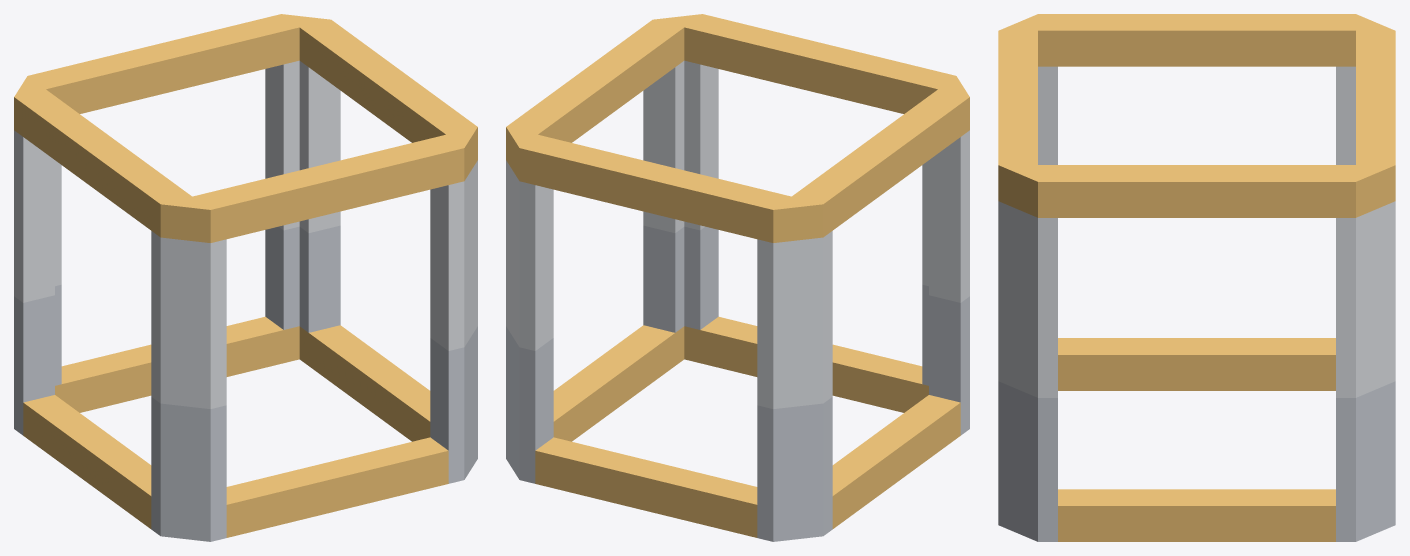
File: structure_detailed.glb
The picture shows the model from 3 angles, left to right: view 1: azimuth 30°, elevation 25°; view 2: azimuth 150°, elevation 25°; view 3: azimuth 270°, elevation 25°; orthographic projection. The views are drawn at different scales.
Visible parts, largest first — view 1: structure_detailed; view 2: structure_detailed; view 3: structure_detailed.
Part boxes in pixels (bbox=[...]): structure_detailed: bbox=[14, 14, 477, 541]; structure_detailed: bbox=[506, 14, 969, 541]; structure_detailed: bbox=[998, 14, 1395, 541].
Size of the model in its own units: 1 by 1 by 1.
